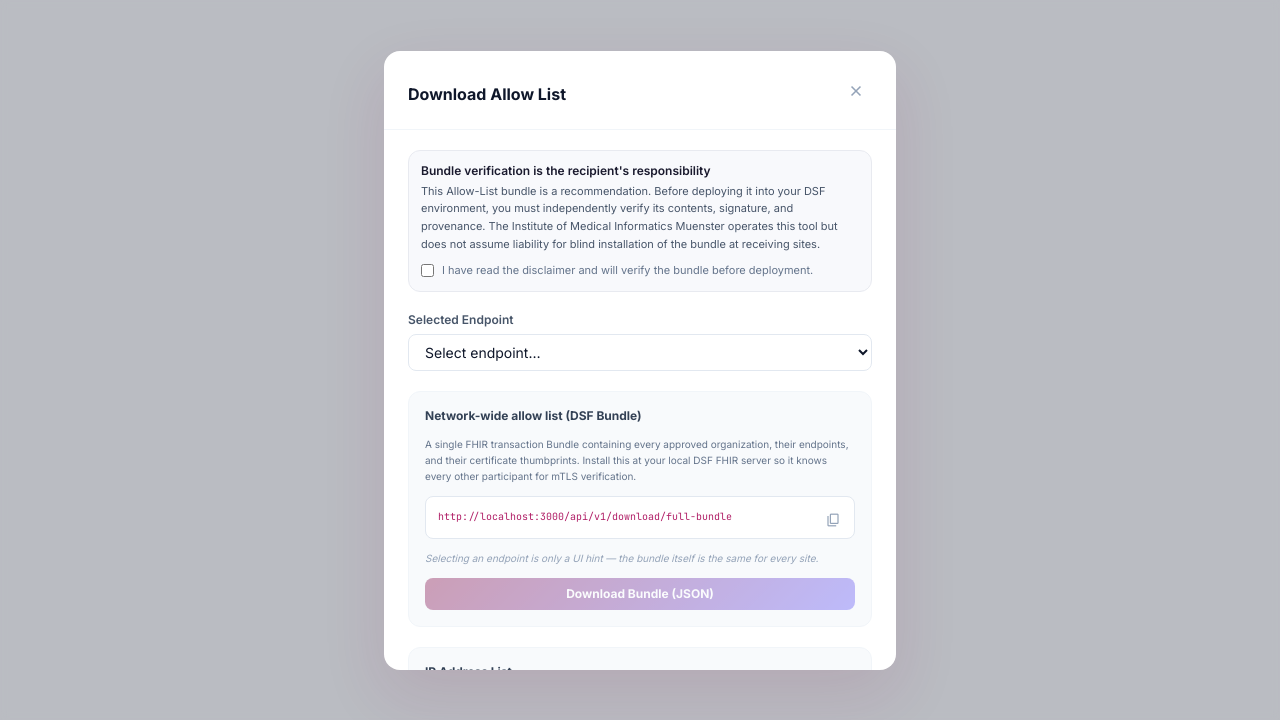
DownloadModal disclaimer gate › enables both download buttons once the operator ticks the acknowledgment
Click the checkbox with test id "disclaimer-checkbox" at (428, 270), box [421, 264, 434, 277]
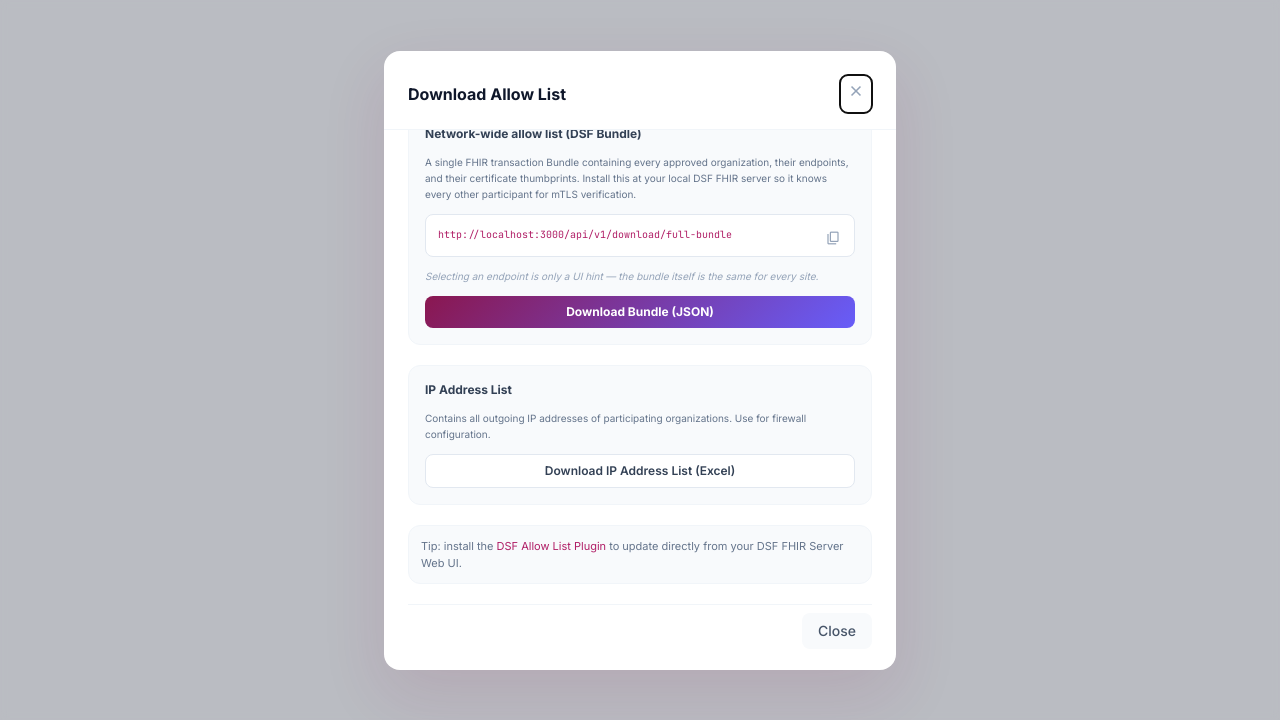
Check: the button with test id "download-bundle-btn" is enabled, box [425, 296, 855, 328]
Check: the button with test id "download-ip-btn" is enabled, box [425, 454, 855, 488]
